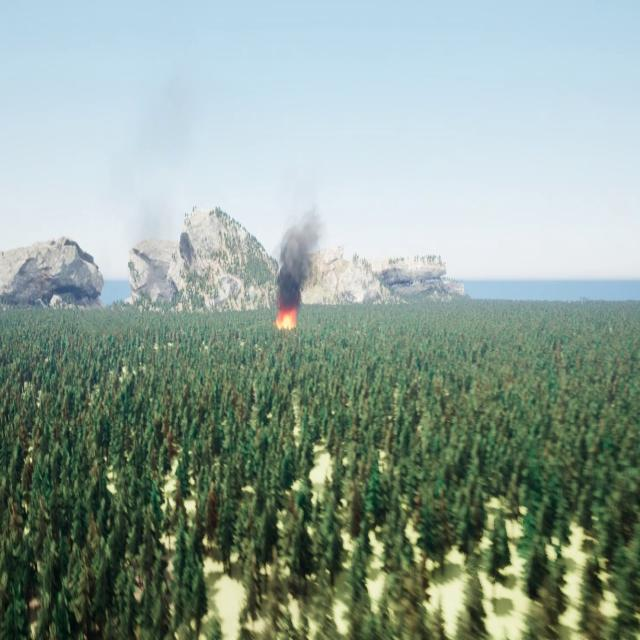fire: (274, 308, 297, 328)
smoke: (276, 199, 323, 305)
